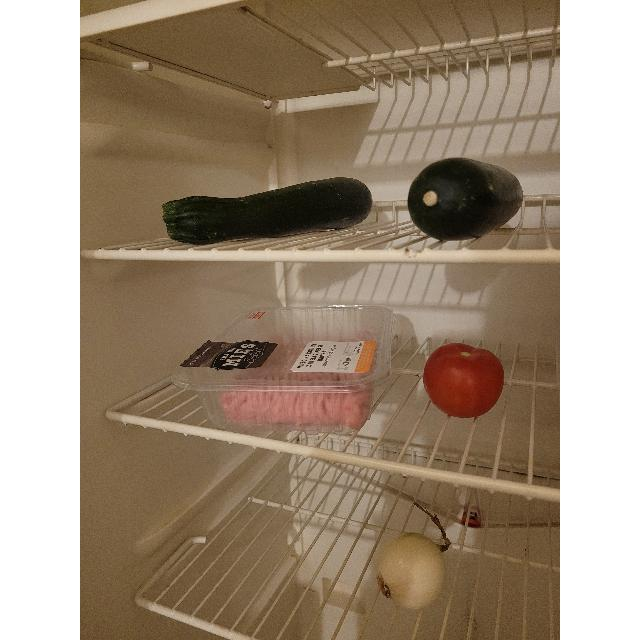meat: (214, 335, 374, 431)
onion: (375, 531, 449, 611)
tomato: (422, 342, 506, 420)
zucchini: (163, 178, 371, 245), (408, 156, 520, 240)
